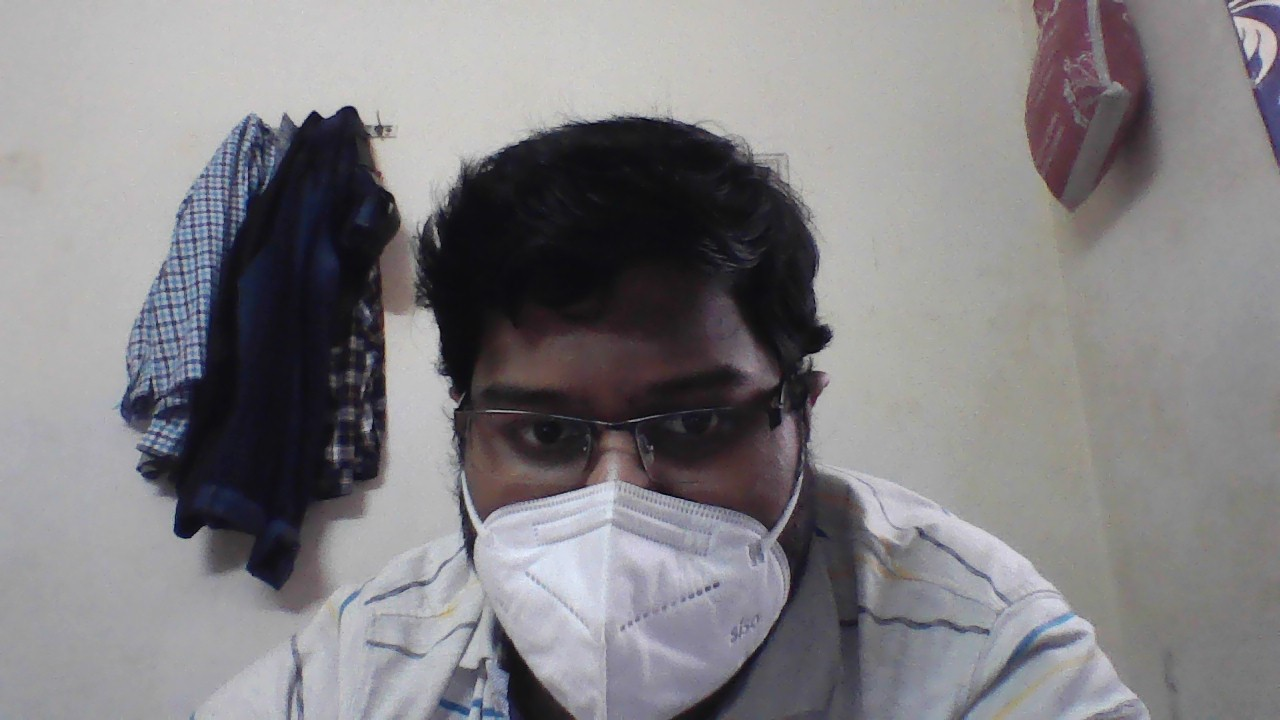Mask: (428, 453, 834, 707)
